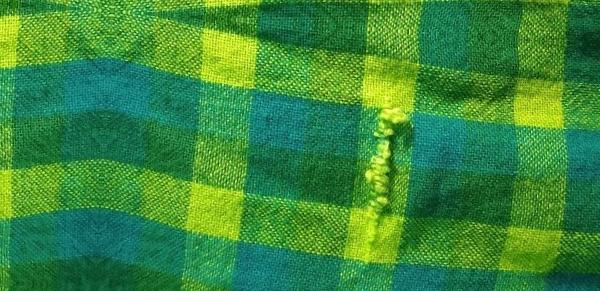knot: (363, 104, 413, 259)
